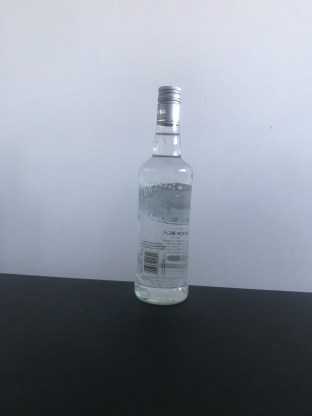nakretka: (155, 84, 183, 127)
